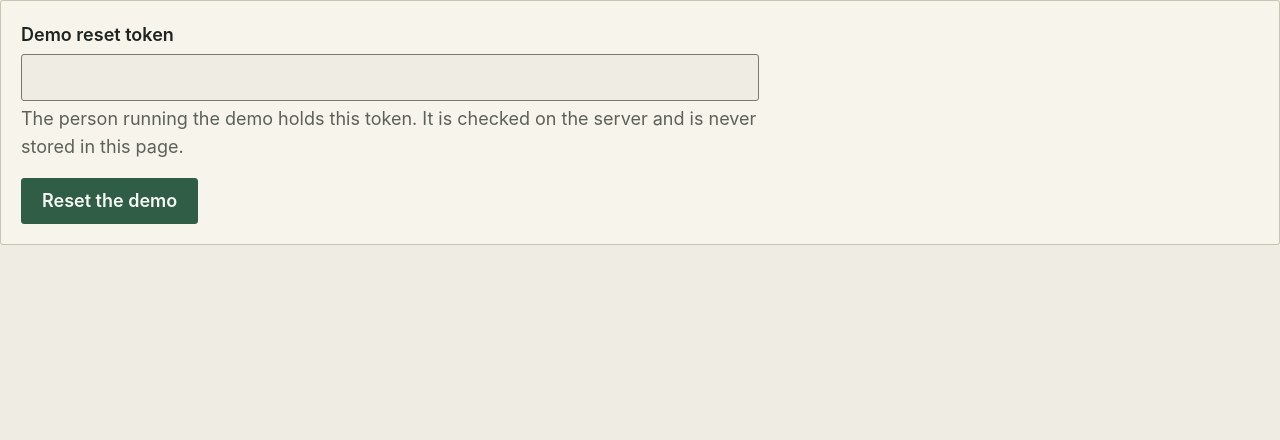
Scenario: DemoResetForm receipt › sends the typed token in the request header and never in the page
Type "demo-token" into the password field labelled "Demo reset token" at (390, 77), box 21,54 -> 759,101
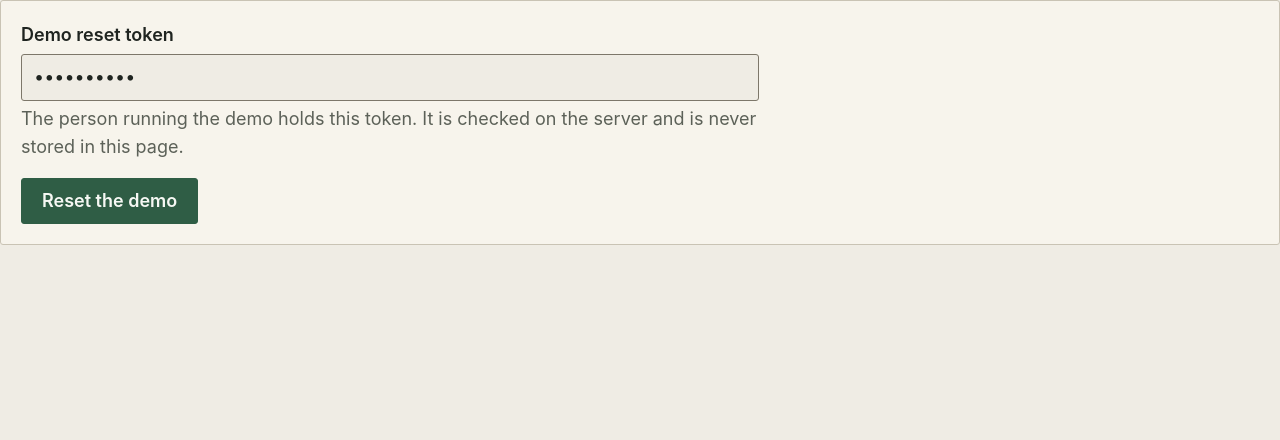
Click the button with test id "demo-reset-submit" at (110, 201), box 21,178 -> 198,224
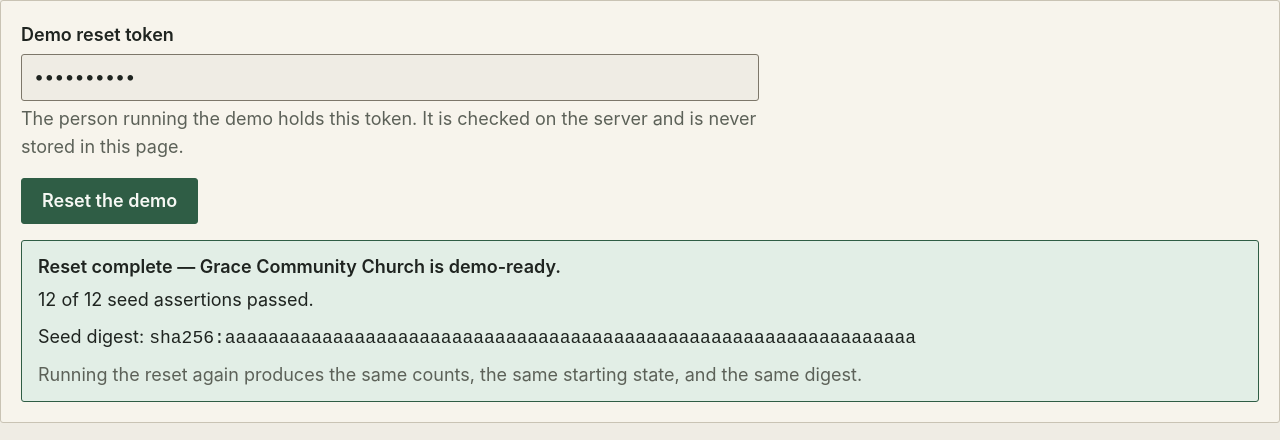
expect the message with test id "demo-reset-result" is shown: met, box 21,240 -> 1259,402
